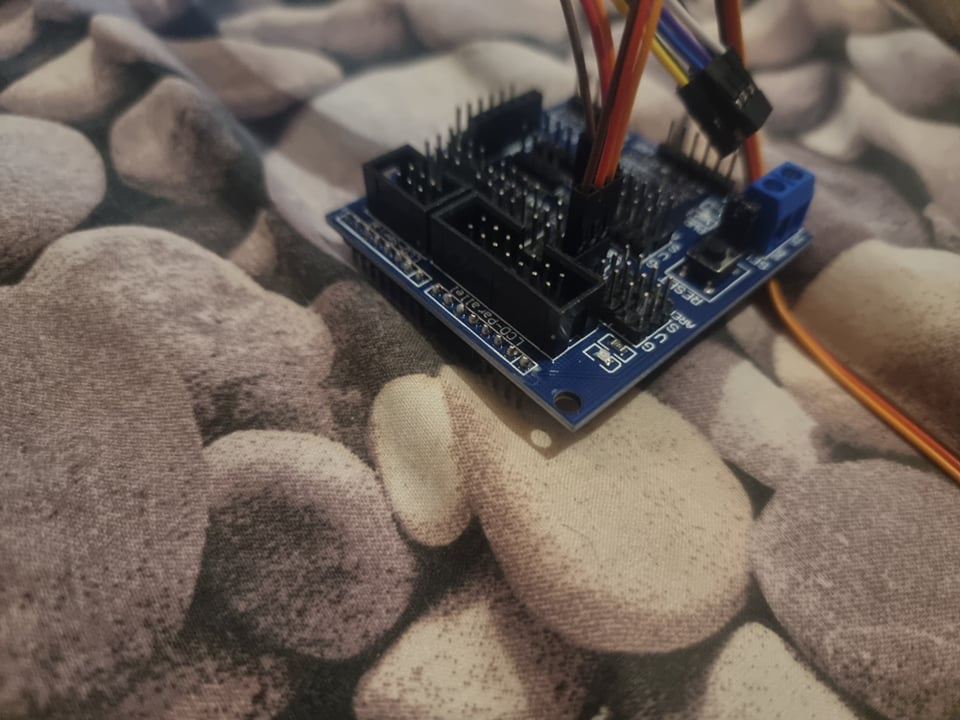5V EXPANSION: (322, 74, 815, 435)
